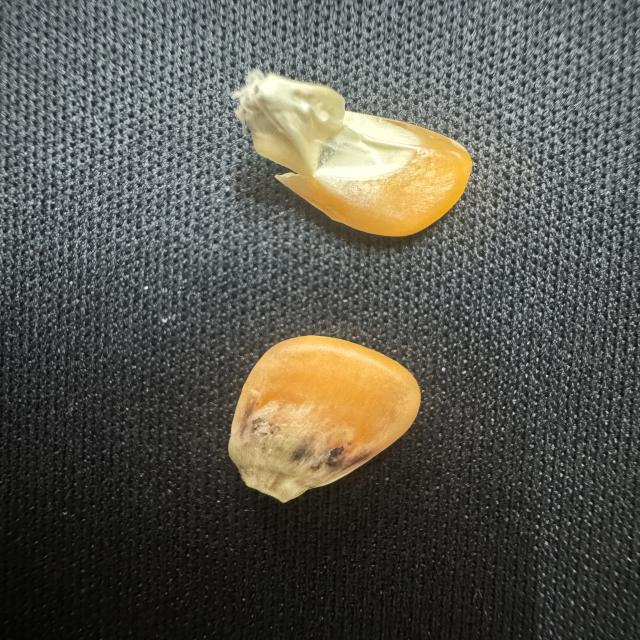Bad-Seed: (232, 61, 478, 242), (226, 331, 423, 505)
